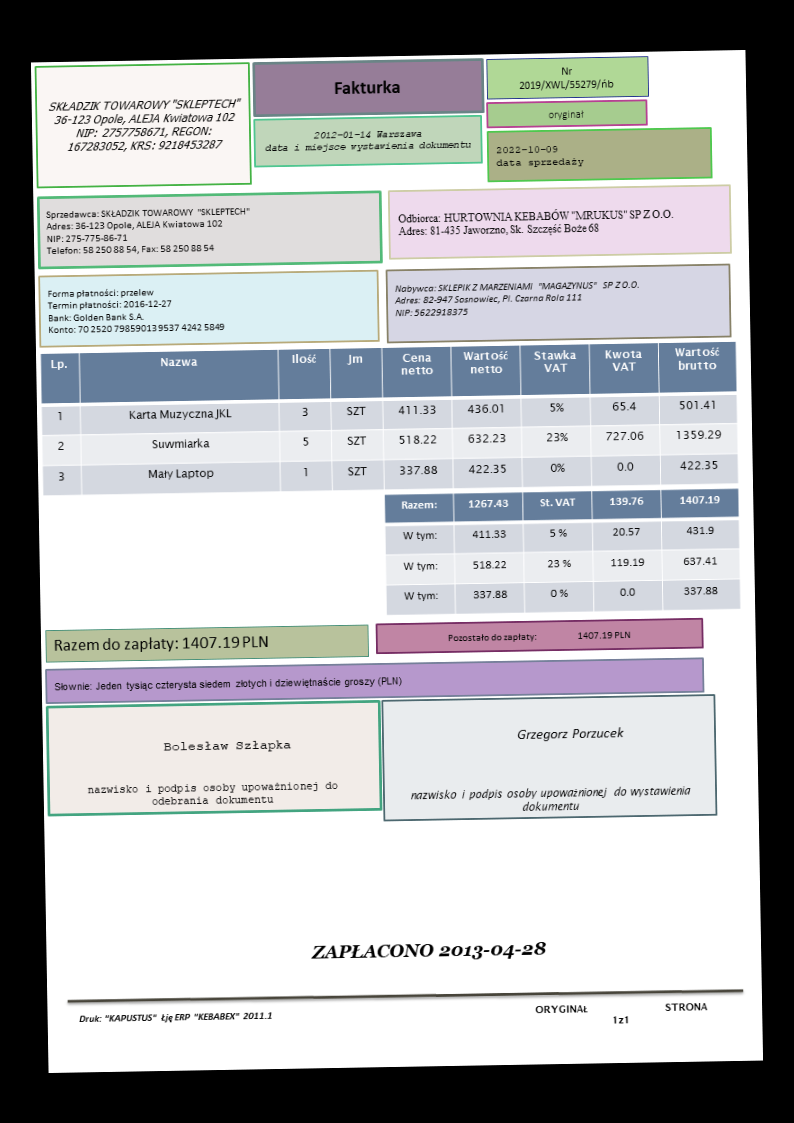Table: (39, 339, 739, 498), (383, 485, 743, 617)
TextBox: (46, 95, 245, 154), (43, 203, 253, 258), (392, 277, 642, 321), (394, 203, 676, 239), (44, 282, 226, 337), (408, 783, 693, 817), (84, 778, 341, 808), (307, 936, 549, 967), (52, 673, 404, 694), (263, 126, 474, 156), (532, 998, 712, 1029), (50, 631, 270, 655), (76, 1007, 275, 1027), (444, 626, 633, 646), (516, 61, 614, 94), (160, 735, 291, 757), (492, 142, 586, 171), (514, 724, 626, 743), (330, 77, 402, 98), (546, 108, 586, 122)
